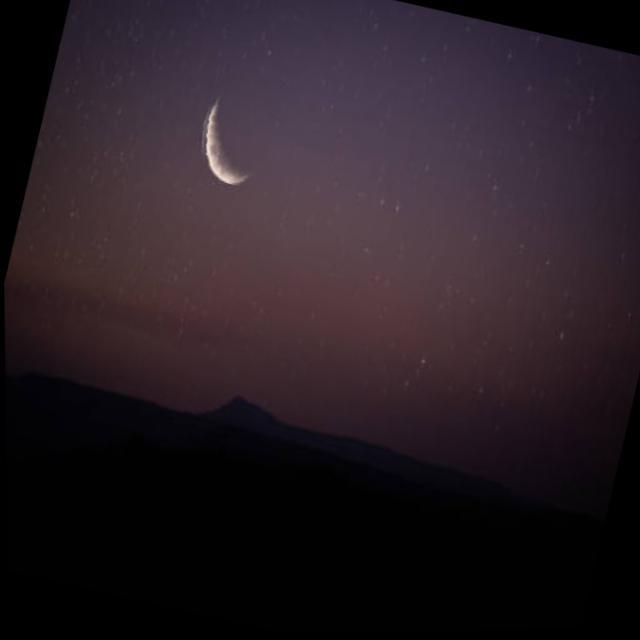moon: (185, 58, 296, 195)
